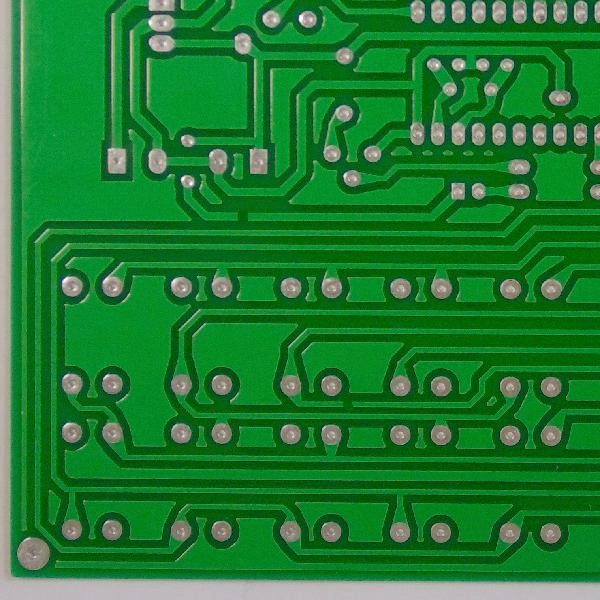open_circuit: (232, 208, 253, 224), (339, 397, 357, 411)
